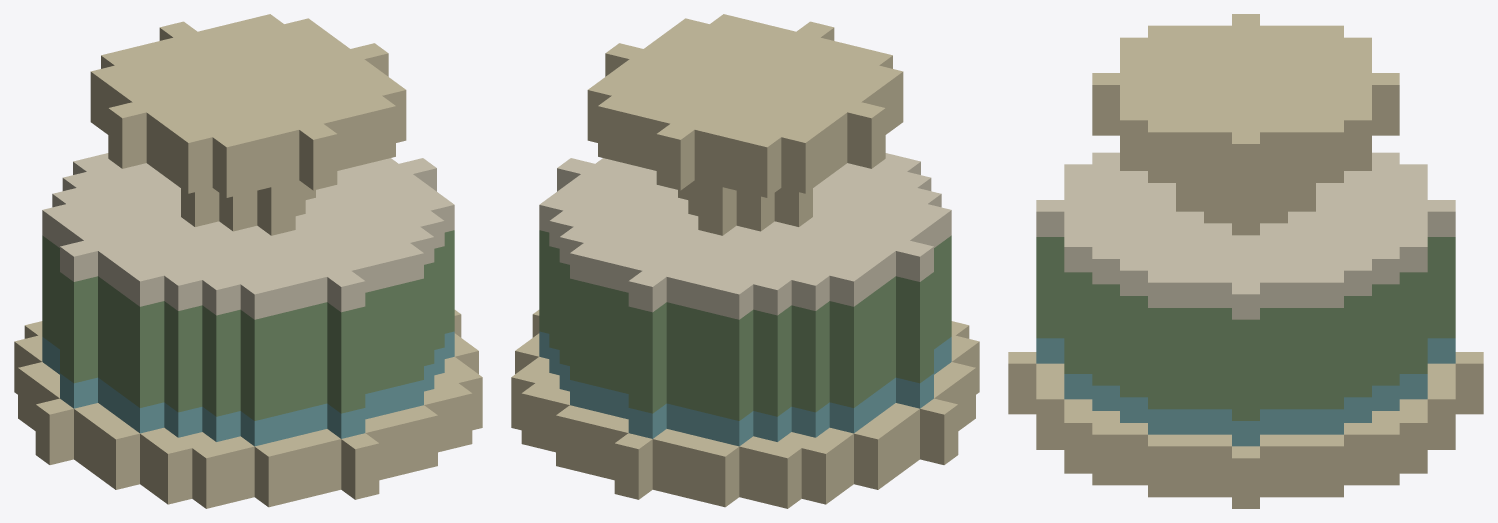
File: gardening-15.glb
3 renders of one model, left to right at view 1: azimuth 30°, elevation 25°; view 2: azimuth 150°, elevation 25°; view 3: azimuth 270°, elevation 25°, orthographic.
Parts seen in each view (by area): view 1: Bird bath; view 2: Bird bath; view 3: Bird bath.
Part boxes in pixels (x1,y1,x2,y2): Bird bath: (14, 14, 482, 508); Bird bath: (511, 14, 979, 508); Bird bath: (1008, 14, 1483, 508).
Size of the model in its own units: 1.36 by 1.04 by 1.36.
